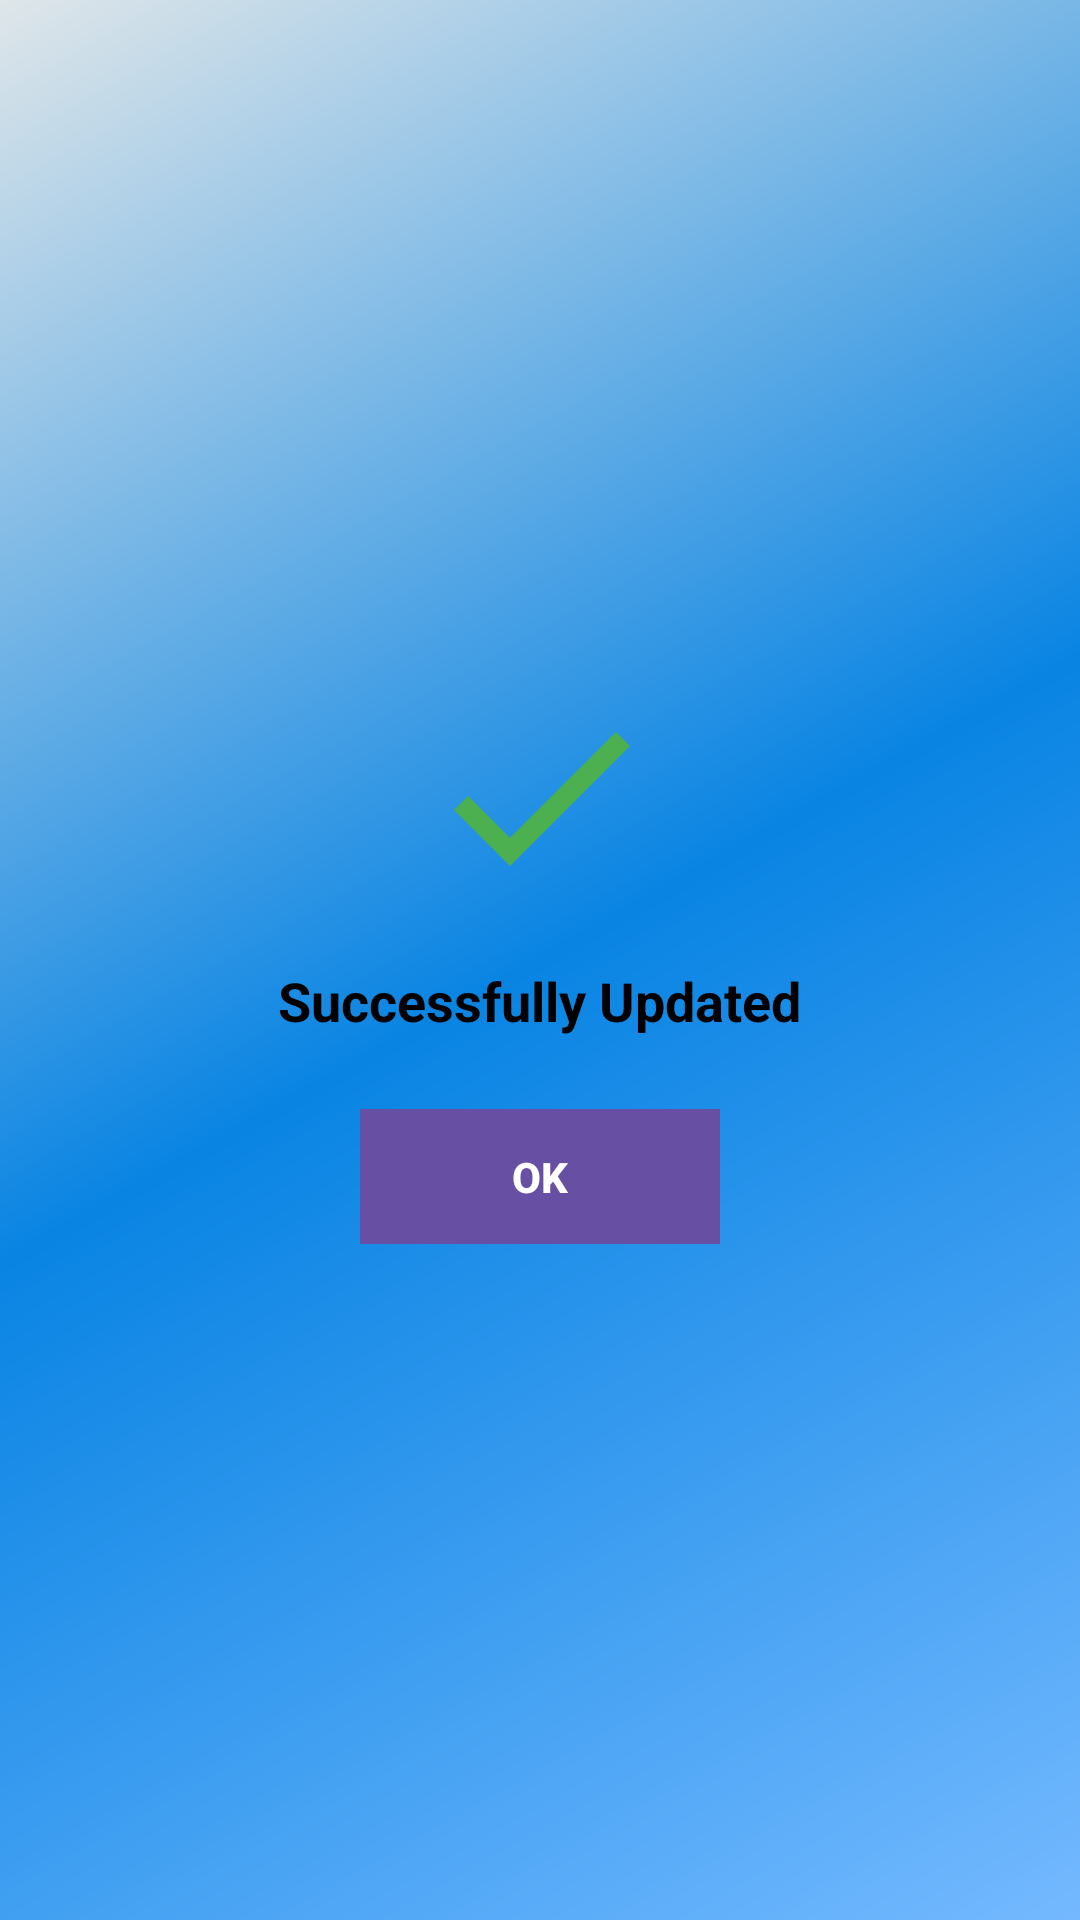

Named icons in this screenshot (1080w x 1920h) and their centers, [x,y]:
tick: [540,796]
